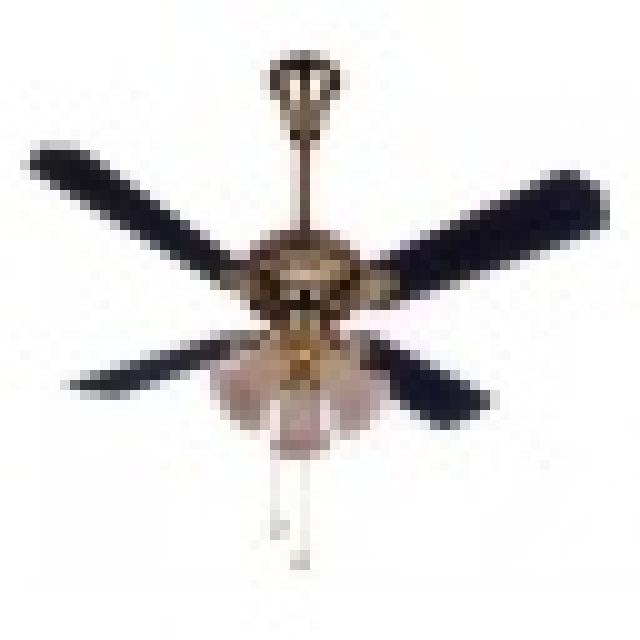Bulb: (37, 114, 633, 532)
